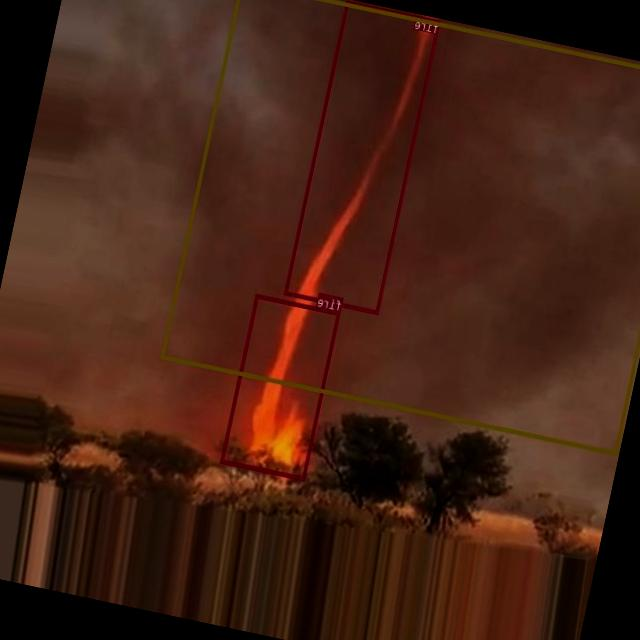fire: (285, 0, 441, 314), (221, 294, 341, 480)
smoke: (161, 0, 640, 454)
